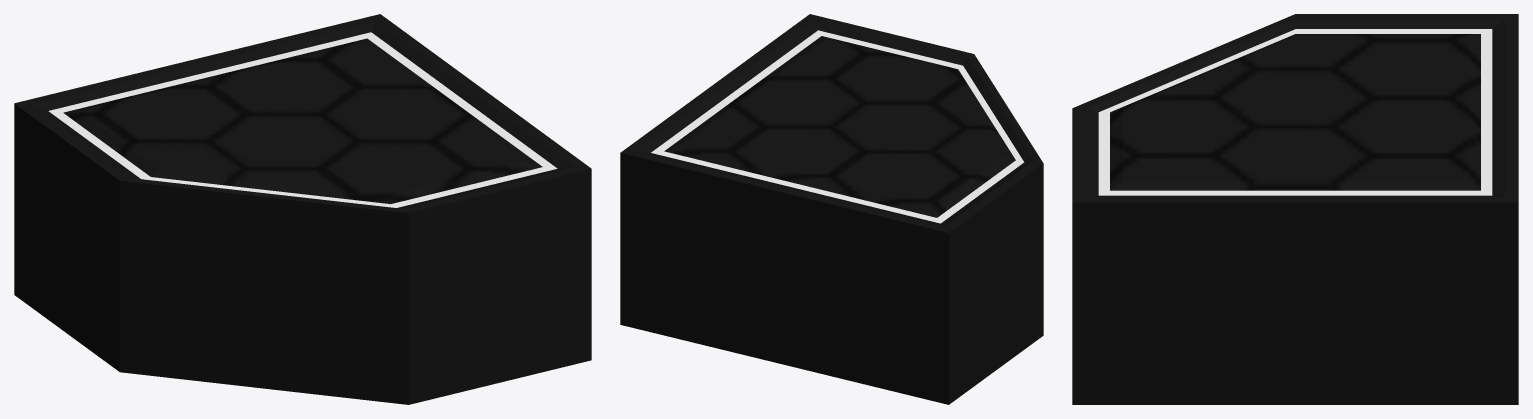
Rendered from Tile 3E2.fbx.
The picture shows the model from 3 angles, left to right: view 1: azimuth 30°, elevation 25°; view 2: azimuth 150°, elevation 25°; view 3: azimuth 270°, elevation 25°; orthographic projection. The views are drawn at different scales.
Parts seen in each view (by area): view 1: pCube173; view 2: pCube173; view 3: pCube173.
Boxes of the visible parts, box(x1,y1,x2,y2) form: pCube173: box(14, 14, 591, 404); pCube173: box(620, 14, 1043, 404); pCube173: box(1072, 14, 1518, 404).
Size of the model in its own units: 2 by 1 by 2.
